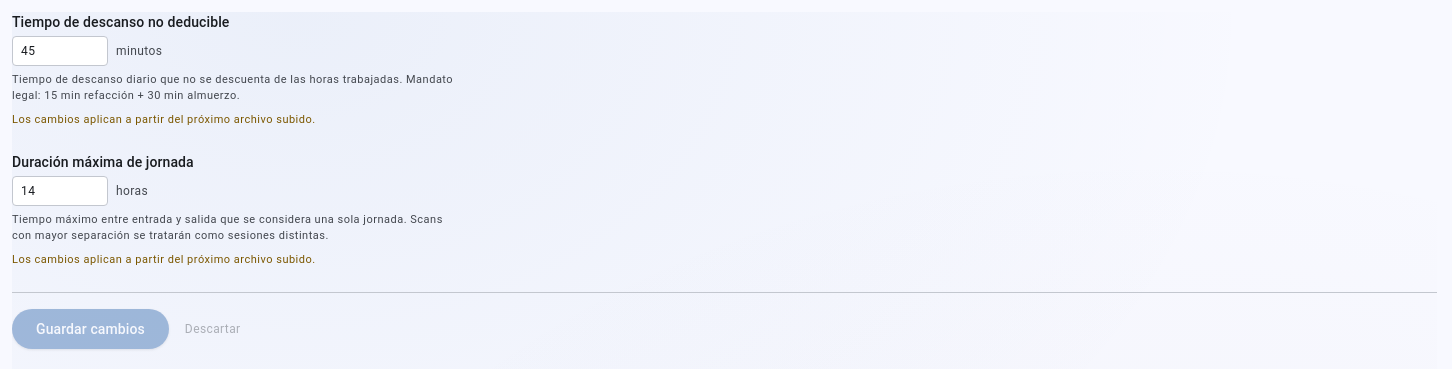
Test: GeneralTab discard › Descartar reverts input to original value
The image size is (1452, 369).
Replace the text in the number field named "tiempo de descanso" with "60": (60, 51) [12, 36, 108, 66]
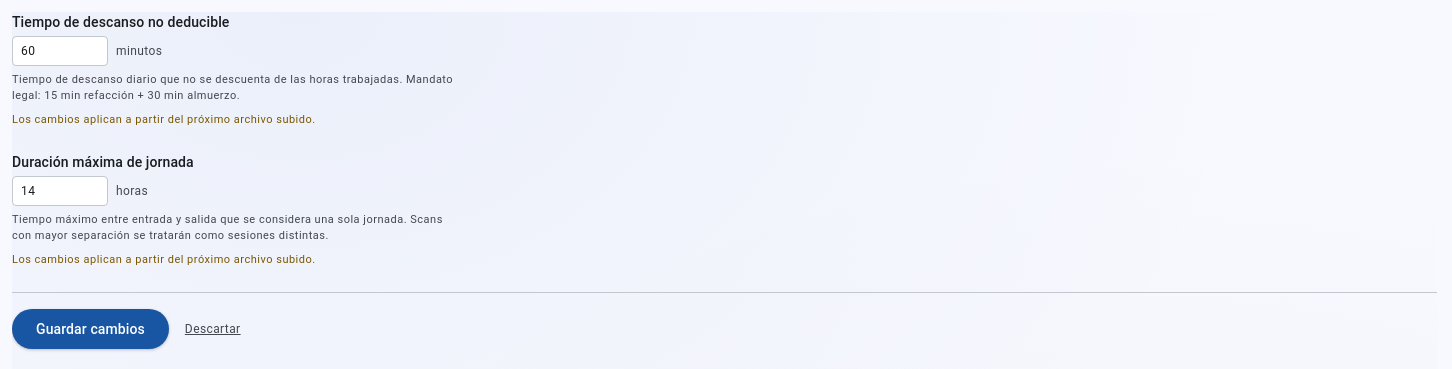
Click the button "Descartar": (213, 329) [185, 321, 241, 337]
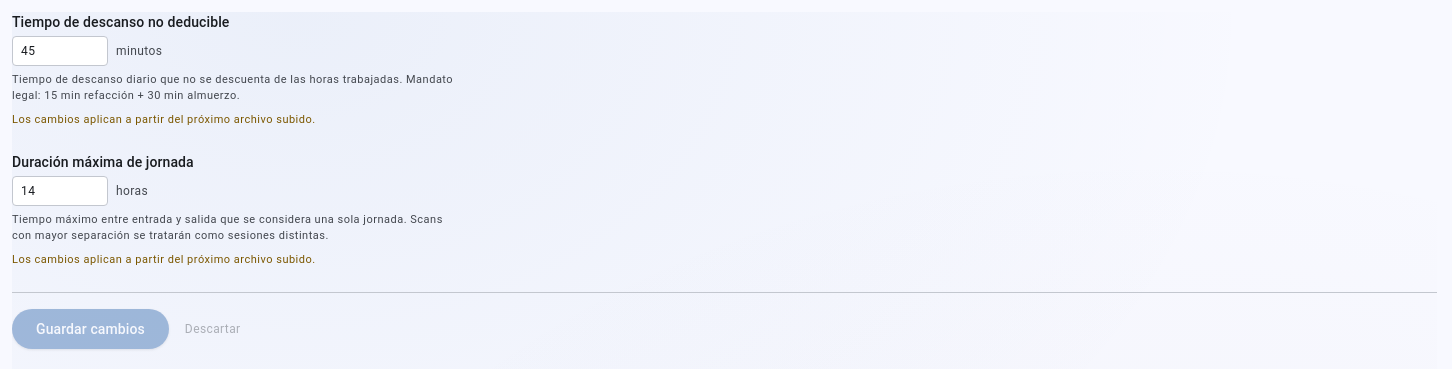
expect the number field named "tiempo de descanso" holds "45": met, box [12, 36, 108, 66]
